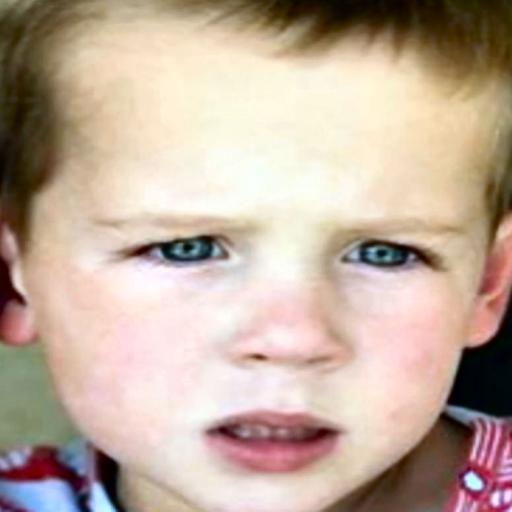Autism: (15, 7, 512, 483)
